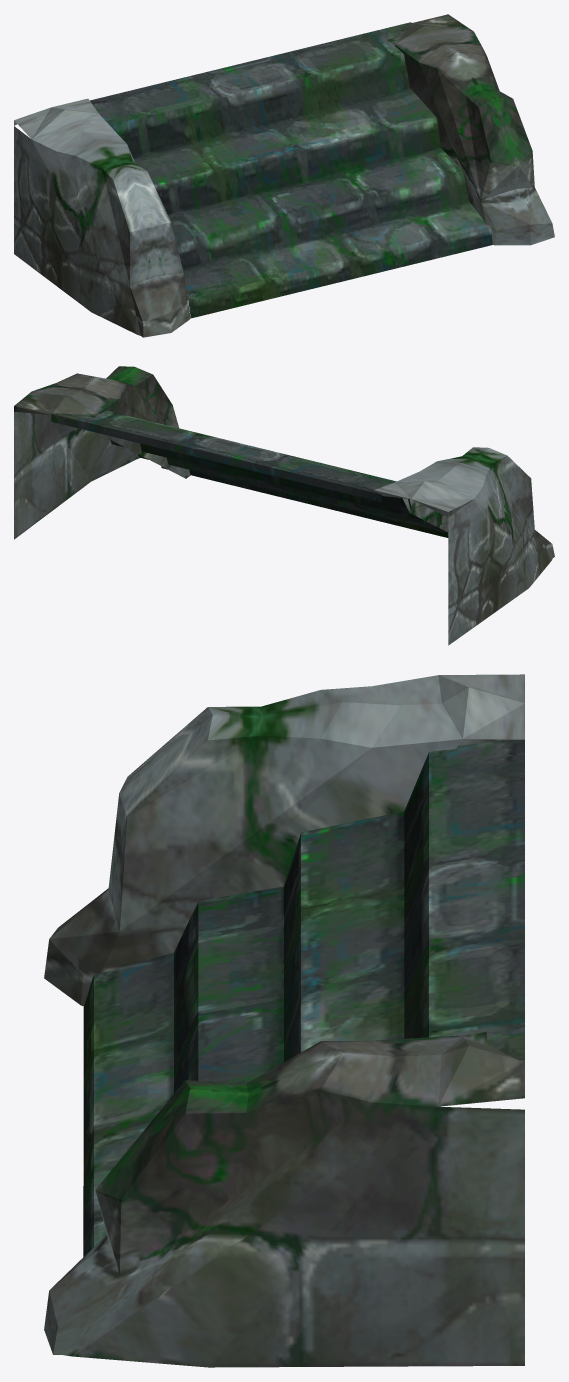
File: stemple_quarter_stair_01.fbx
The picture shows the model from 3 angles, top to bottom: view 1: azimuth 30°, elevation 25°; view 2: azimuth 150°, elevation 25°; view 3: azimuth 270°, elevation 25°; orthographic projection. The views are drawn at different scales.
Visible parts, largest first — view 1: obj1.032; view 2: obj1.032; view 3: obj1.032.
Boxes of the visible parts, x1,y1,x2,y2 form: obj1.032: (14, 14, 554, 337); obj1.032: (14, 366, 554, 645); obj1.032: (44, 674, 524, 1367).
Bounding box in the file's own units: 4.91 × 1.54 × 2.31.
